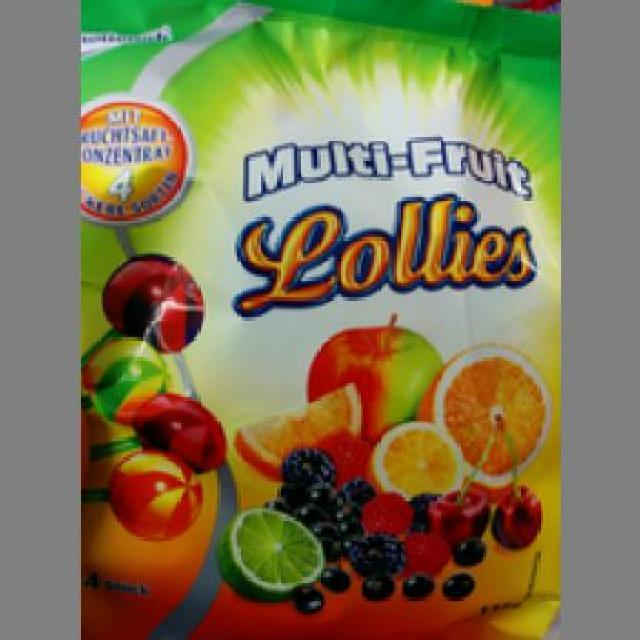Candy: (73, 0, 552, 635)
